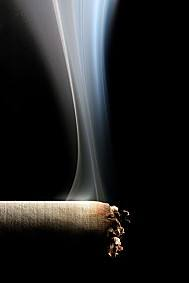yanwu: (50, 1, 115, 201)
